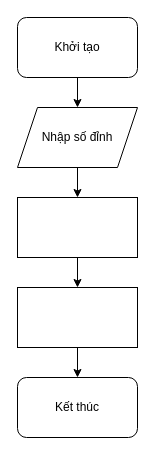
Image size: 155x455. Some labels were removed from this diagram. Each missing label, with the centre of its shape:
"Thêm ký tự A + i mỗi lần lặp vô mảng cacDinh" goes at point (77, 317).
"Vòng lặp chạy từ 0 đến số đỉnh" goes at point (77, 227).
